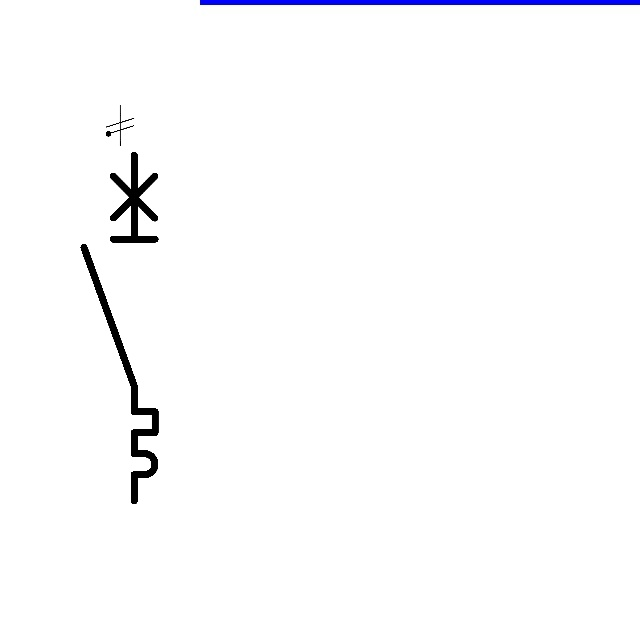interruptor_termomagnetico: (75, 146, 164, 510)
